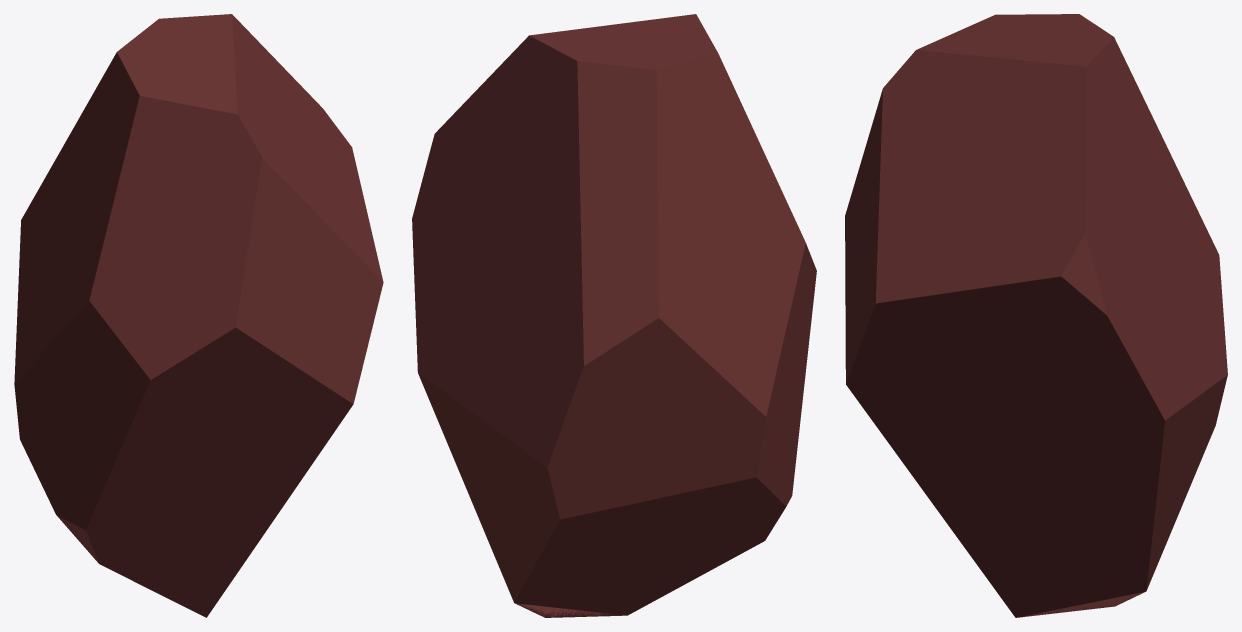
Rendered from rock_2.fbx.
3 renders of one model, left to right at view 1: azimuth 30°, elevation 25°; view 2: azimuth 150°, elevation 25°; view 3: azimuth 270°, elevation 25°, orthographic. The views are drawn at different scales.
Parts seen in each view (by area): view 1: Icosphere.002; view 2: Icosphere.002; view 3: Icosphere.002.
Part boxes in pixels (x1,y1,x2,y2): Icosphere.002: (14,14,383,617); Icosphere.002: (412,14,816,617); Icosphere.002: (845,14,1227,617).
Bounding box in the file's own units: 181 × 295 × 176.
